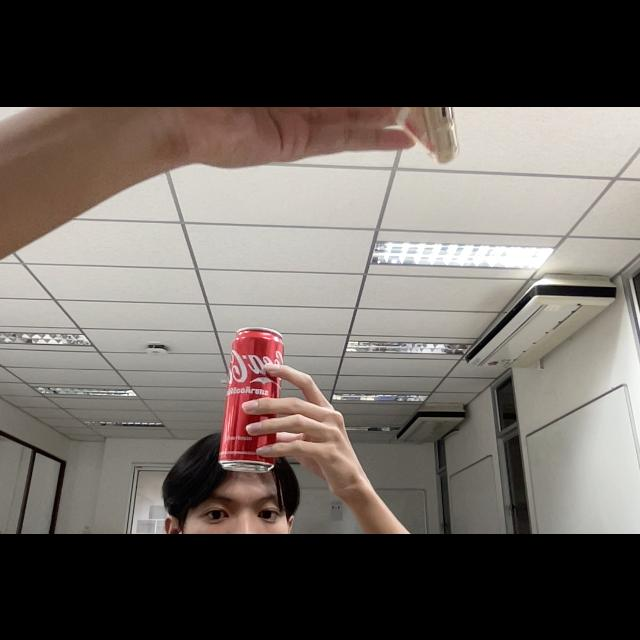plastic_bottle: (219, 322, 285, 472)
